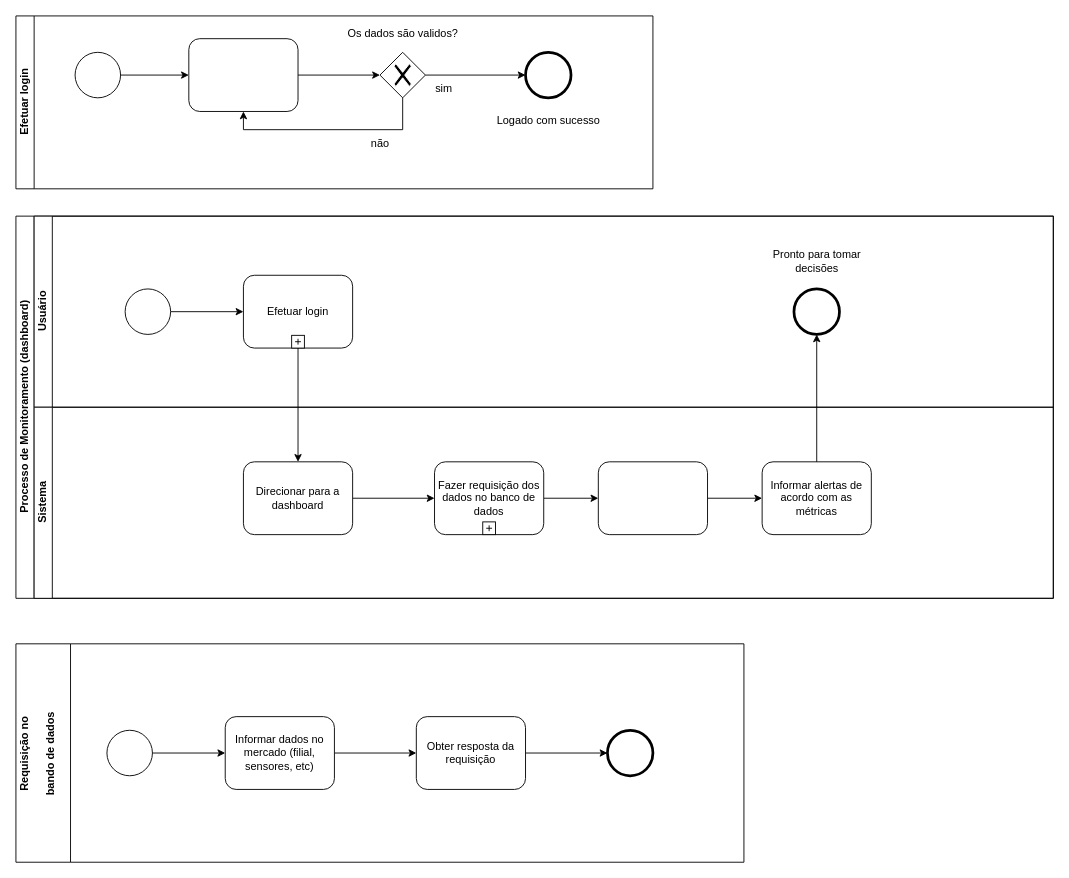
The diagram is 1069 pixels wide and 878 high, and some of its shapes have lost their labels. The shapes that lost their labels are listed below. From the top down, each one's centre as x and y in pixels, then its label:
At point (243, 74): "Fornecer os dados do login".
At point (147, 311): "Entrou no site institucional".
At point (652, 498): "Carregar os dados na dashboard".
At point (129, 752): "Abriu conexão".
At point (630, 752): "Fechar conexão".
